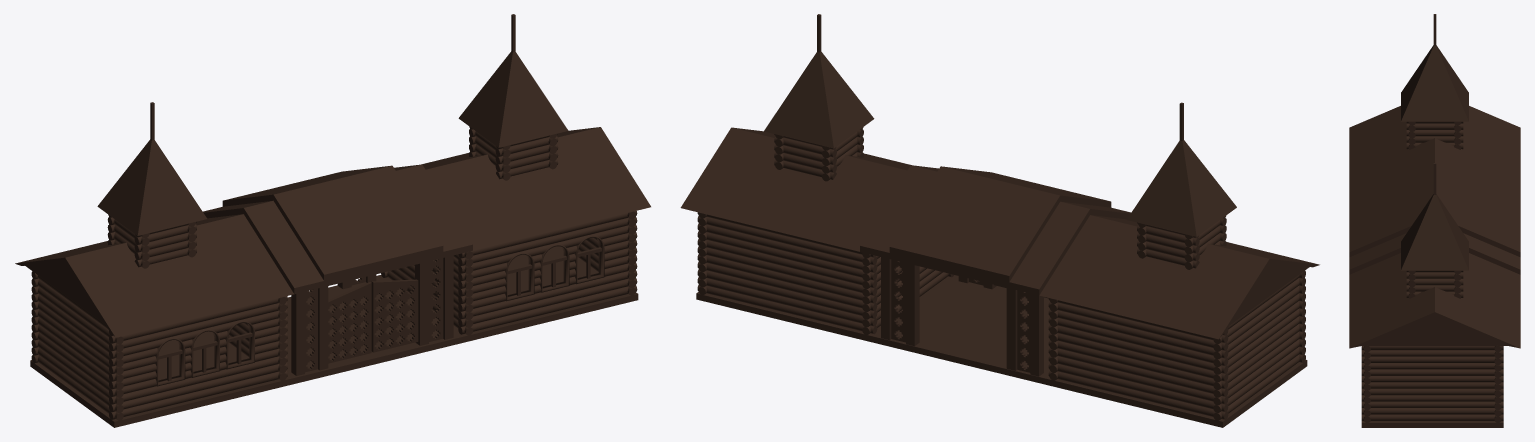
Rendered from car_grad_3_color.glb.
The picture shows the model from 3 angles, left to right: view 1: azimuth 30°, elevation 25°; view 2: azimuth 150°, elevation 25°; view 3: azimuth 270°, elevation 25°; orthographic projection. The views are drawn at different scales.
Visible parts, largest first — view 1: Куб.011; view 2: Куб.011; view 3: Куб.011.
Boxes of the visible parts, left/top/right/bottom form: Куб.011: left=15, top=14, right=650, bottom=427; Куб.011: left=680, top=14, right=1319, bottom=427; Куб.011: left=1349, top=14, right=1520, bottom=427.
Size of the model in its own units: 18.4 by 8.97 by 6.03.
